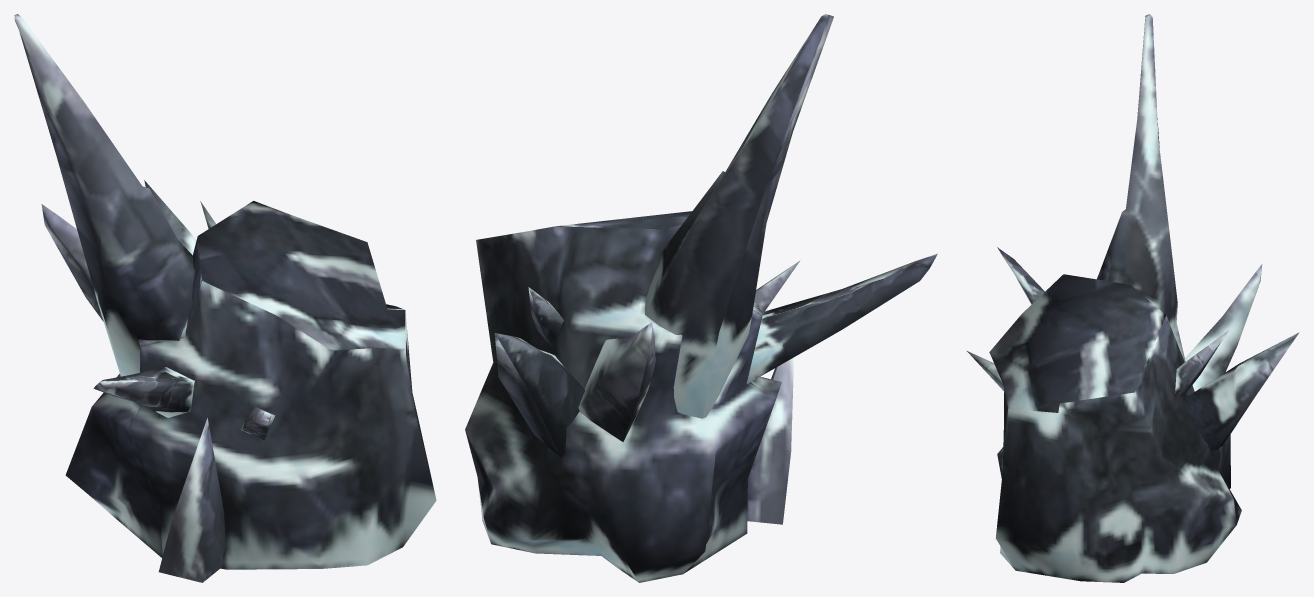
Rendered from yw_xuesebingfeng_yanshi02.FBX.
The picture shows the model from 3 angles, left to right: view 1: azimuth 30°, elevation 25°; view 2: azimuth 150°, elevation 25°; view 3: azimuth 270°, elevation 25°; orthographic projection. The views are drawn at different scales.
Visible parts, largest first — view 1: yw_xuesebingfeng_yanshi02; view 2: yw_xuesebingfeng_yanshi02; view 3: yw_xuesebingfeng_yanshi02.
Part boxes in pixels (bbox=[...]): yw_xuesebingfeng_yanshi02: bbox=[14, 14, 436, 582]; yw_xuesebingfeng_yanshi02: bbox=[465, 14, 937, 582]; yw_xuesebingfeng_yanshi02: bbox=[967, 14, 1299, 582].
Bounding box in the file's own units: 260 × 375 × 259.
